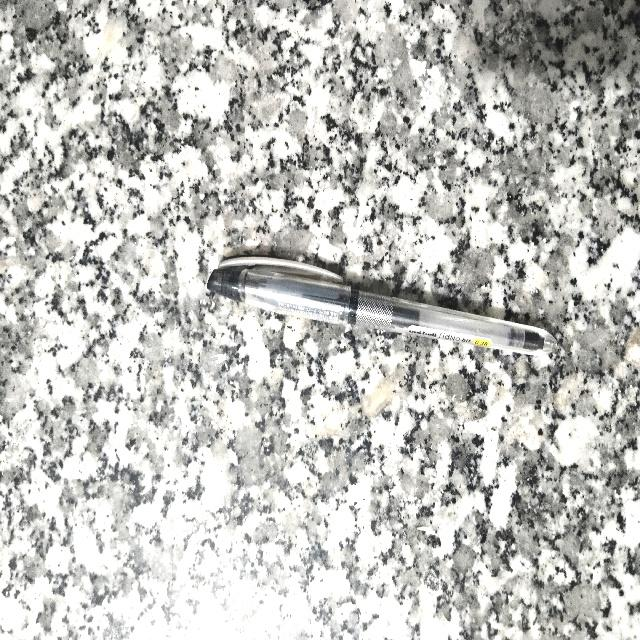pen: (207, 257, 555, 353)
